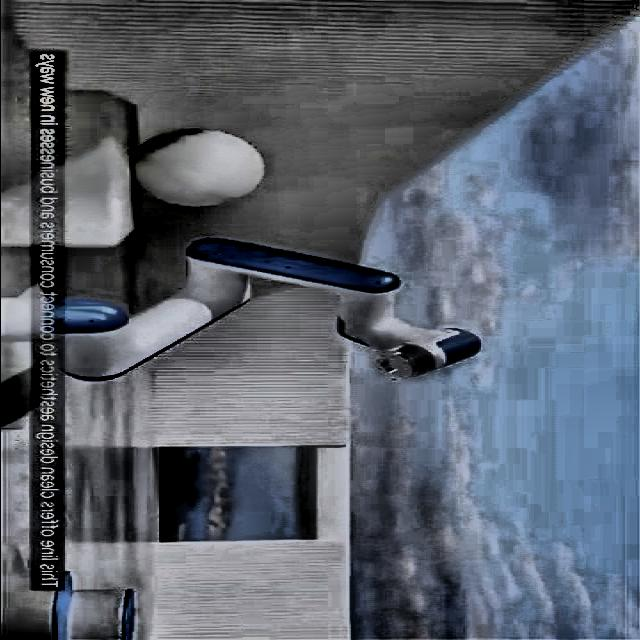robot: (46, 237, 484, 383)
